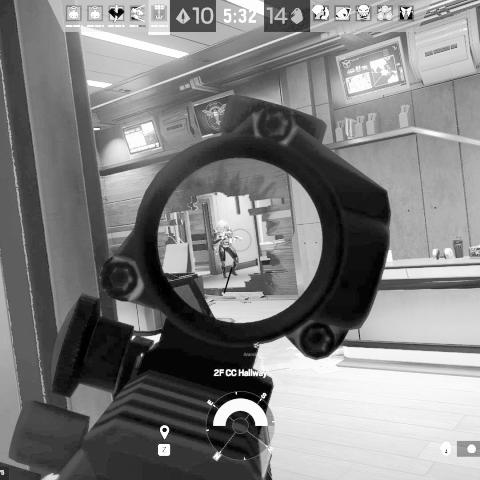Character: (211, 219, 244, 279)
Head: (216, 219, 228, 231)
